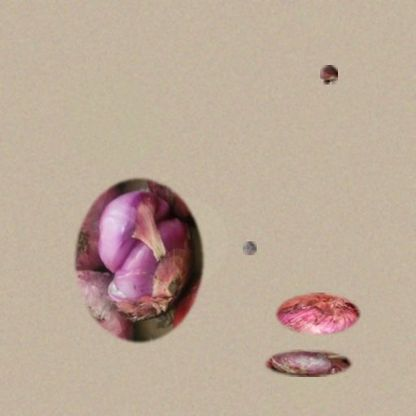damaged: (72, 173, 207, 347)
healthy: (262, 349, 353, 377)
rotten: (274, 292, 362, 336), (243, 241, 257, 255)
sprouted: (320, 65, 338, 85)
